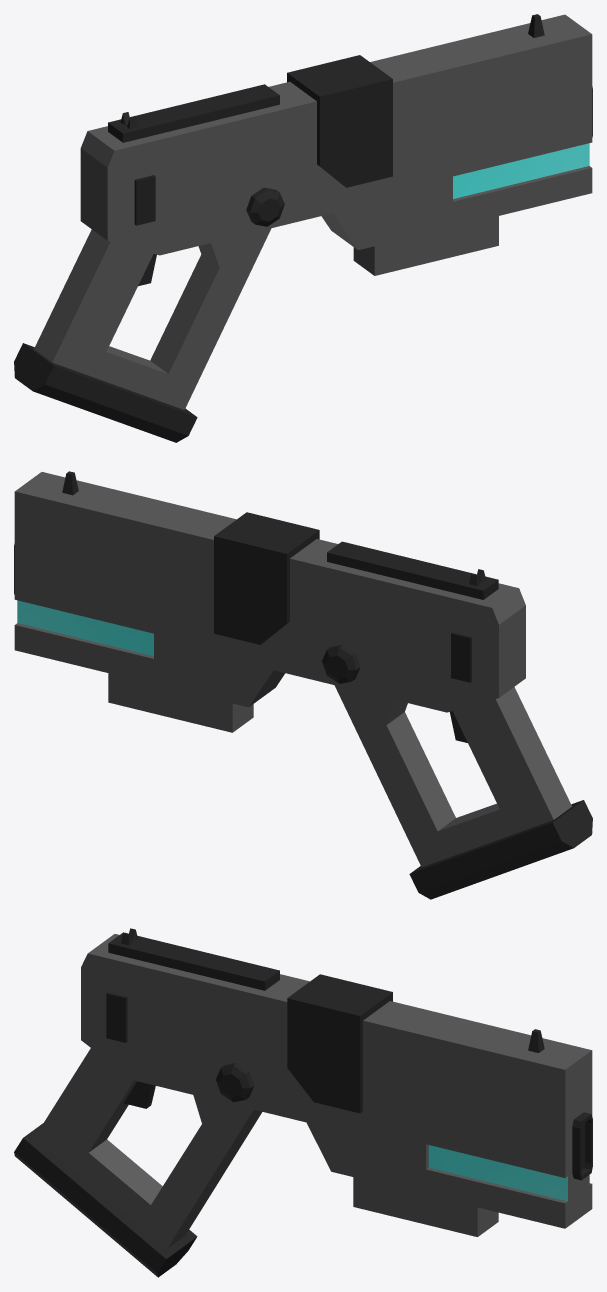
Rendered from M_Star_Blaster.fbx.
3 renders of one model, top to bottom at view 1: azimuth 30°, elevation 25°; view 2: azimuth 150°, elevation 25°; view 3: azimuth 330°, elevation 25°, orthographic.
Parts seen in each view (by area): view 1: M_Star_Blaster; view 2: M_Star_Blaster; view 3: M_Star_Blaster.
Boxes of the visible parts, left/top/right/bottom form: M_Star_Blaster: left=14, top=14, right=592, bottom=442; M_Star_Blaster: left=14, top=471, right=592, bottom=899; M_Star_Blaster: left=14, top=928, right=592, bottom=1277.
Bounding box in the file's own units: 133 × 74.83 × 15.86.
Materials: 1 (1 with a texture image).
